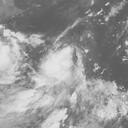cyclone: (35, 42, 87, 94)
